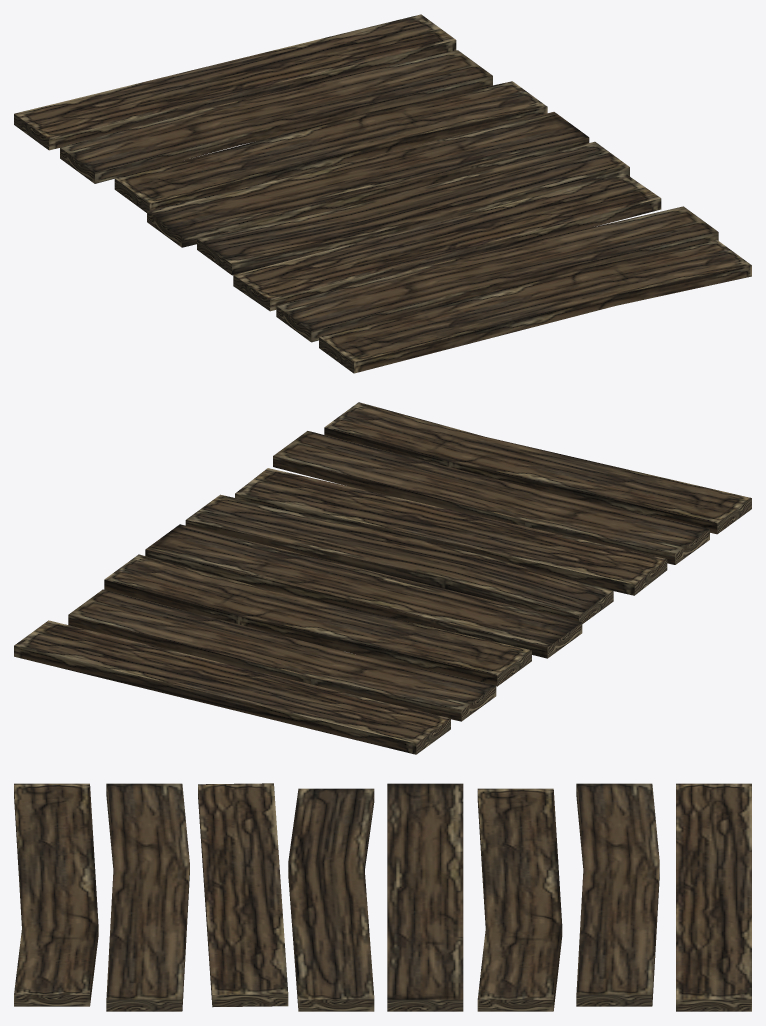
The model's file is Deck_02.fbx.
3 renders of one model, top to bottom at view 1: azimuth 30°, elevation 25°; view 2: azimuth 150°, elevation 25°; view 3: azimuth 270°, elevation 25°, orthographic. The views are drawn at different scales.
Visible parts, largest first — view 1: Deck_02; view 2: Deck_02; view 3: Deck_02.
Part boxes in pixels (box(x1,y1,x2,y2)): Deck_02: box(14, 14, 751, 373); Deck_02: box(14, 402, 751, 754); Deck_02: box(14, 783, 751, 1011).
Size of the model in its own units: 3.89 by 0.1014 by 5.61.
